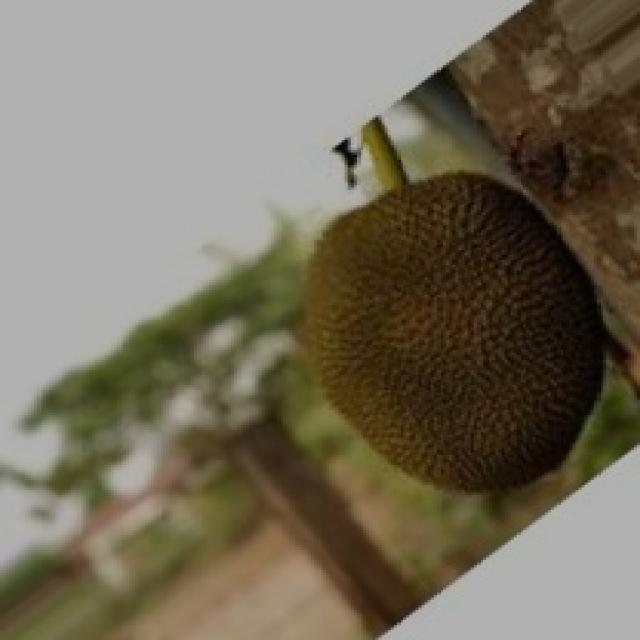Fruit: (262, 152, 630, 512)
